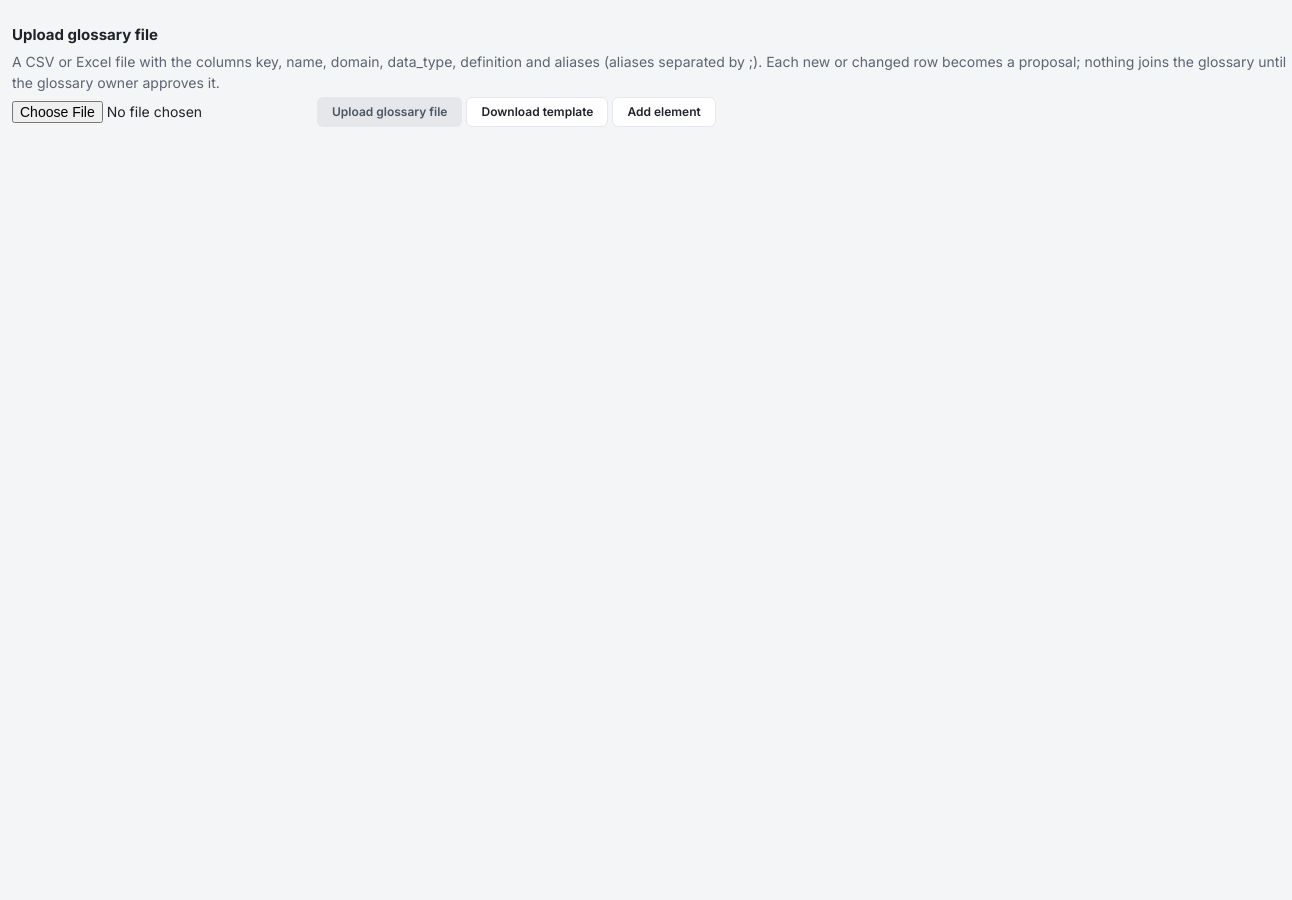
Test case: Add element posts a one-row file through the same endpoint and says what became of it
Click the button "Add element" at (664, 112), box left=612, top=96, right=716, bottom=126
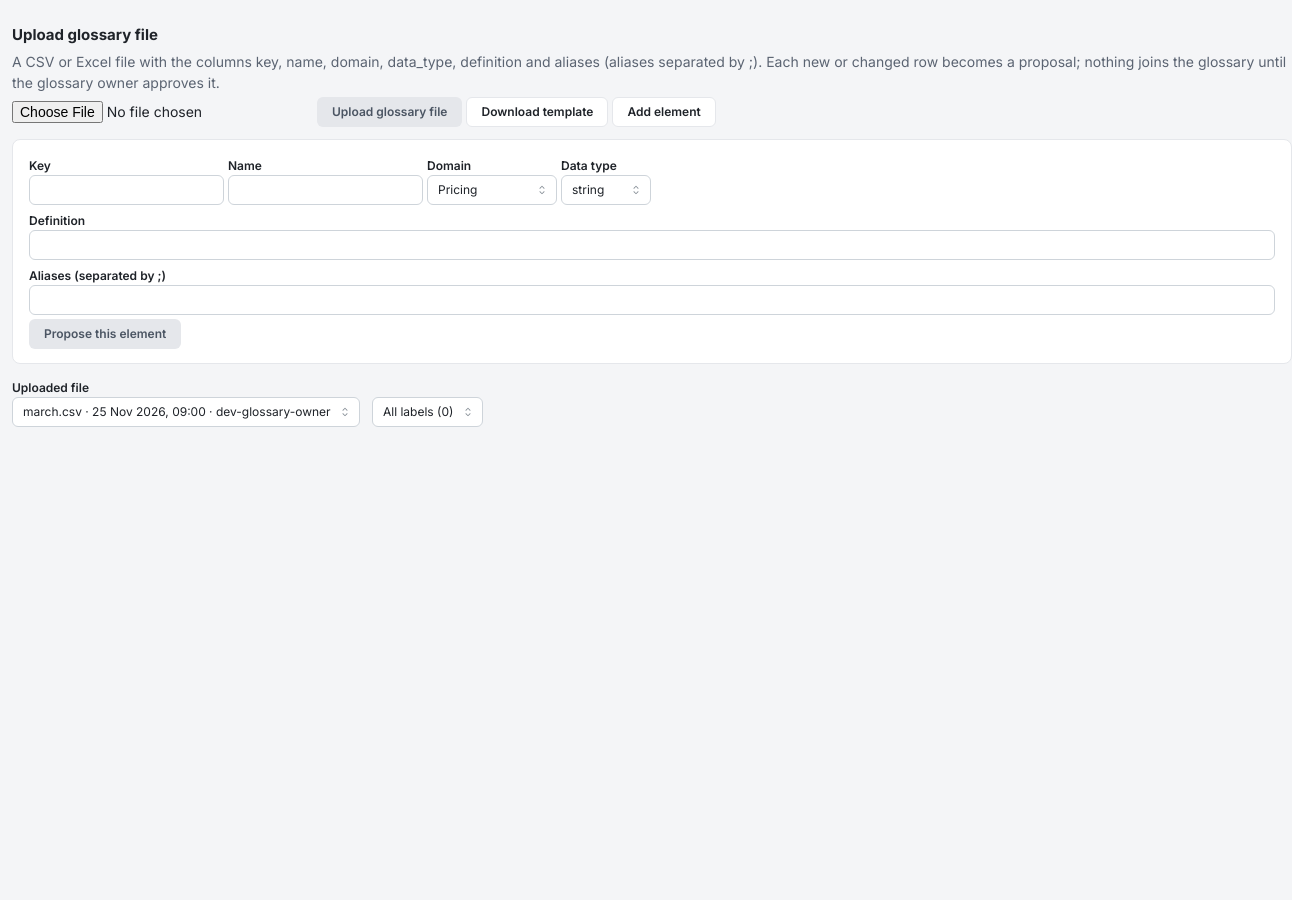
Type "best_fcf" into the field labelled "Key" at (126, 190), box left=29, top=174, right=224, bottom=204
Type "Best \"free\" cash flow" into the field labelled "Name" at (326, 190), box left=228, top=174, right=423, bottom=204
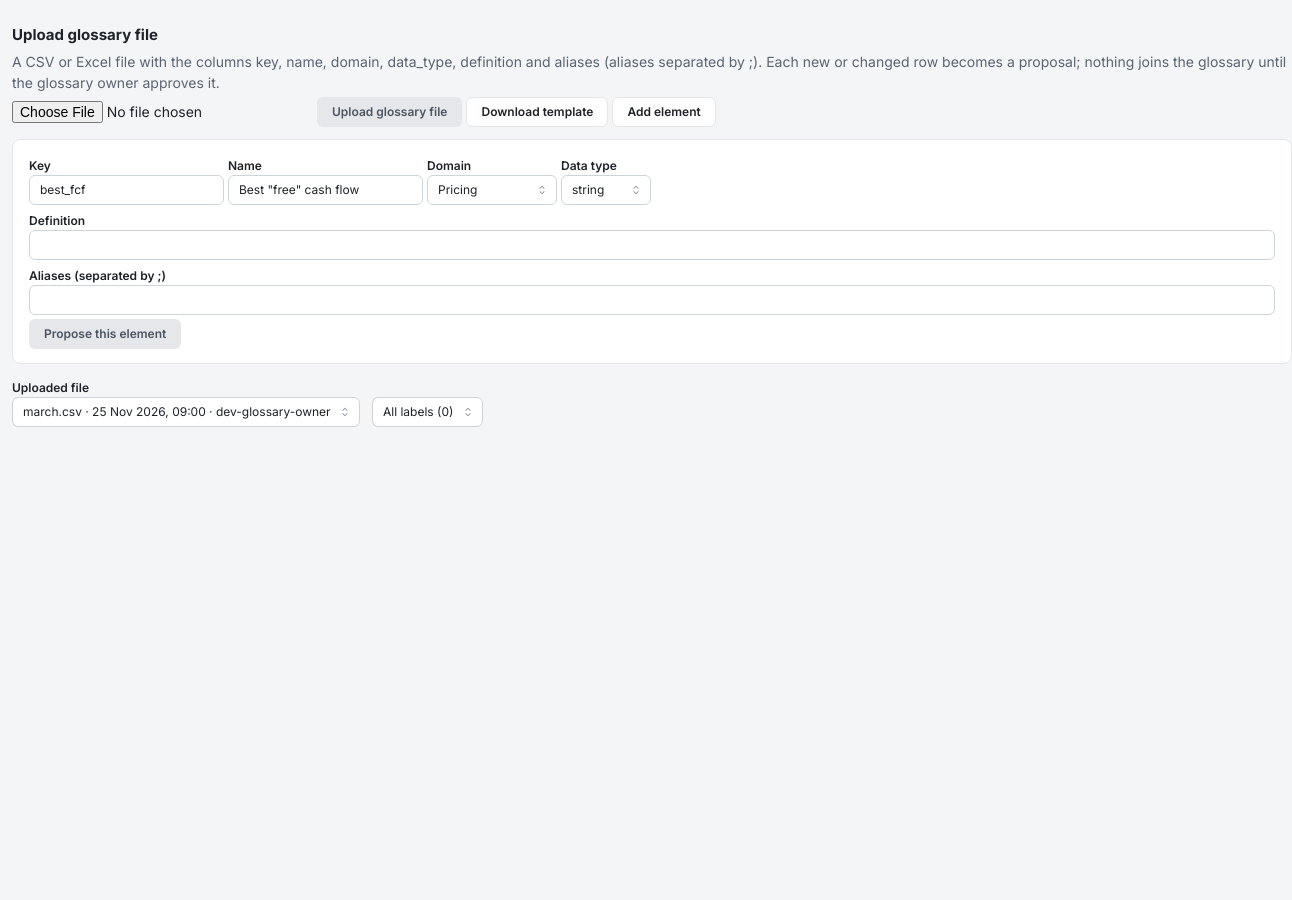
Select "Pricing" in the dropdown labelled "Domain" at (492, 190), box left=427, top=174, right=557, bottom=204
Select "decimal" in the dropdown labelled "Data type" at (606, 190), box left=561, top=174, right=651, bottom=204
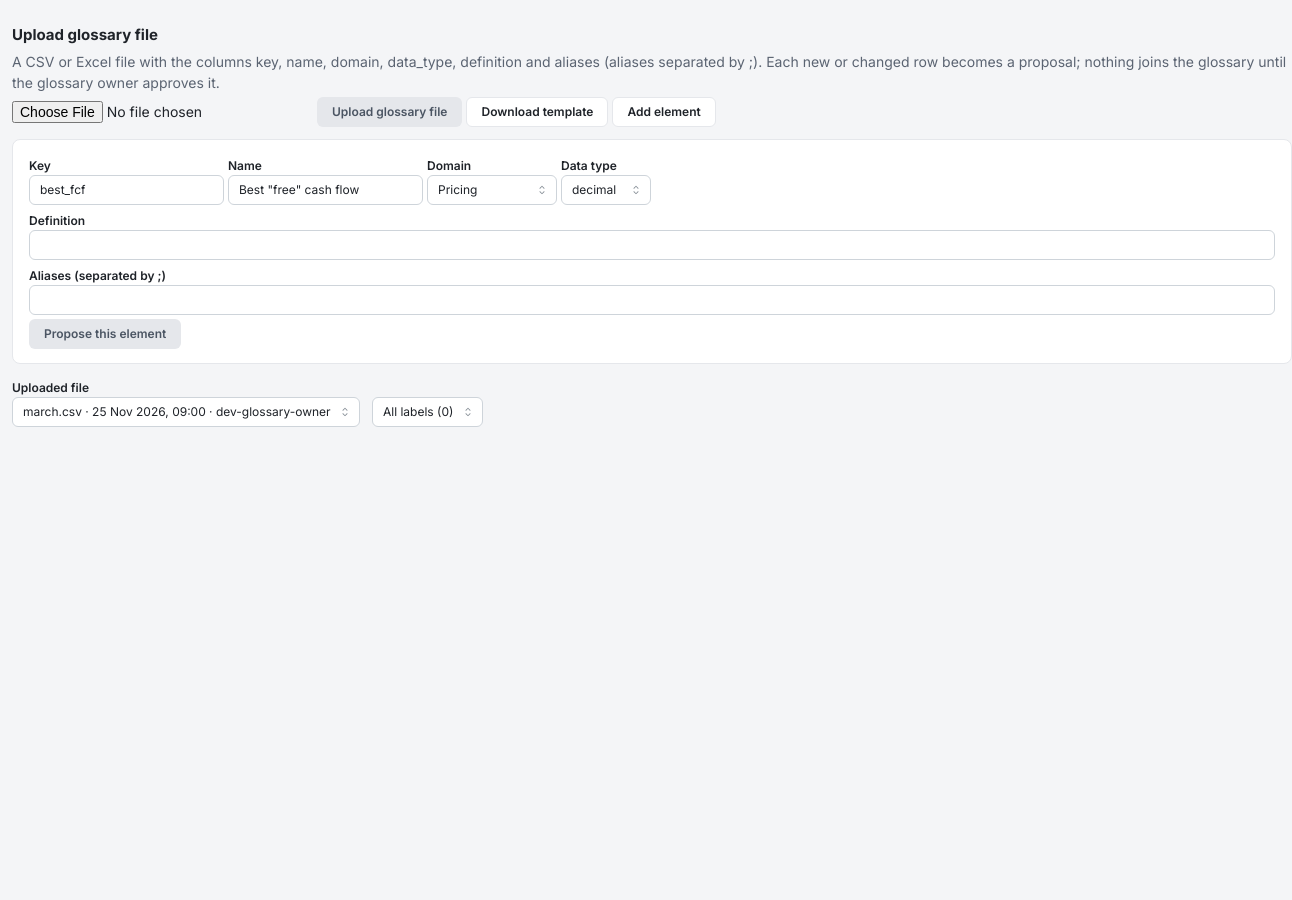
Type "Consensus, free cash flow." into the field labelled "Definition" at (652, 244), box left=29, top=230, right=1275, bottom=260
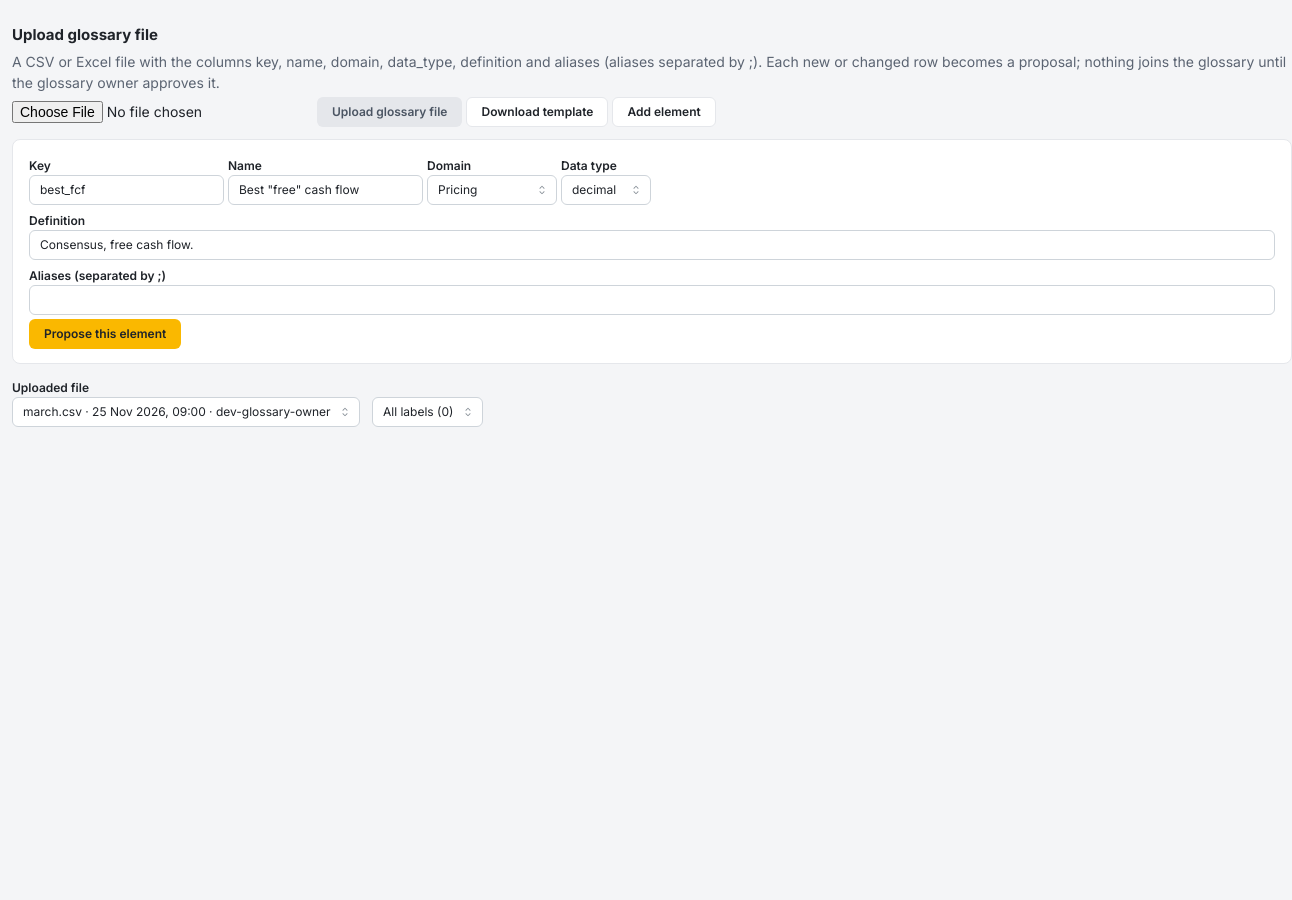
Type "fcf_consensus;fcf_est" into the field labelled "Aliases (separated by ;)" at (652, 300), box left=29, top=284, right=1275, bottom=314
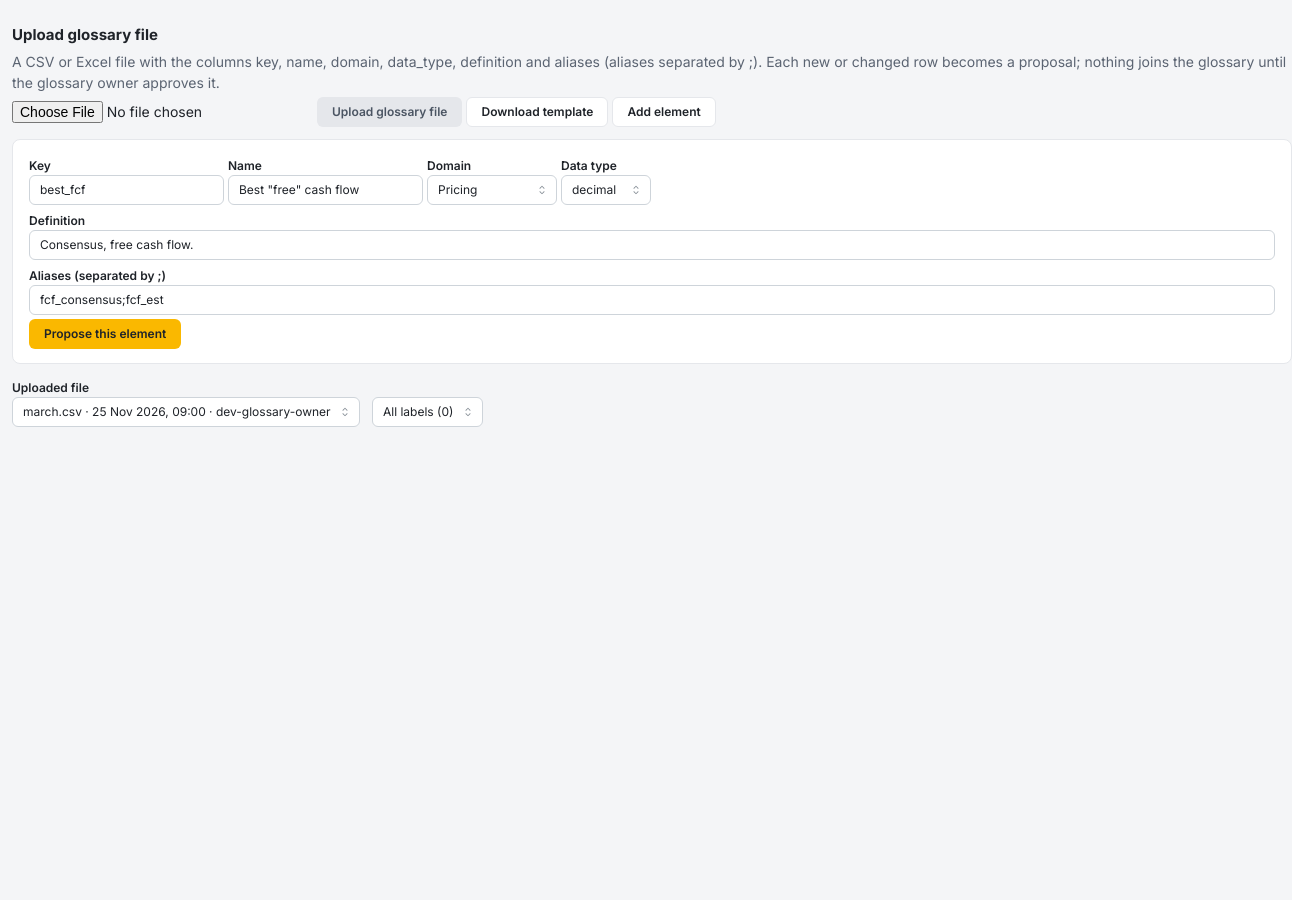
Click the button "Propose this element" at (105, 334), box left=29, top=318, right=181, bottom=348
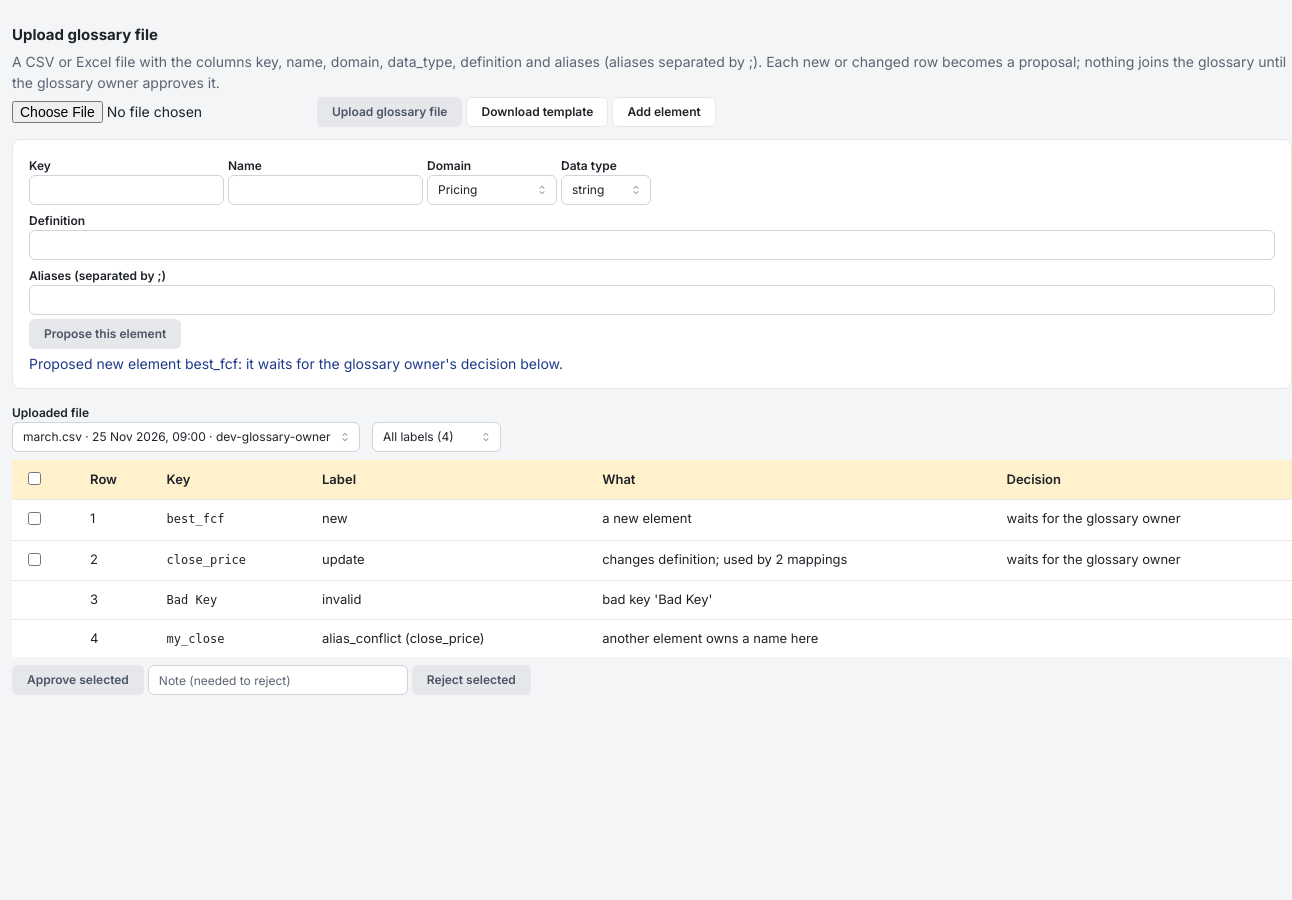
Expected: the message with test id "add-element-result" shows "waits for the glossary owner", left=29, top=354, right=563, bottom=372
